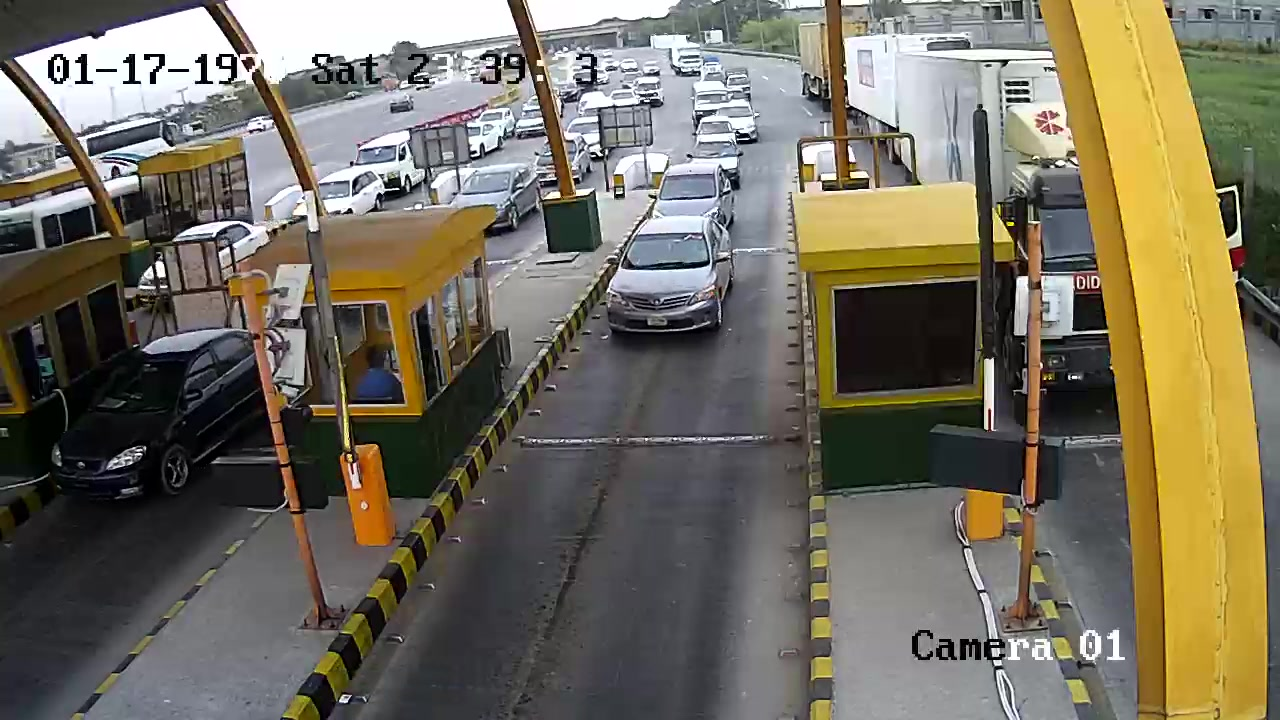F1: (593, 214, 762, 351)
